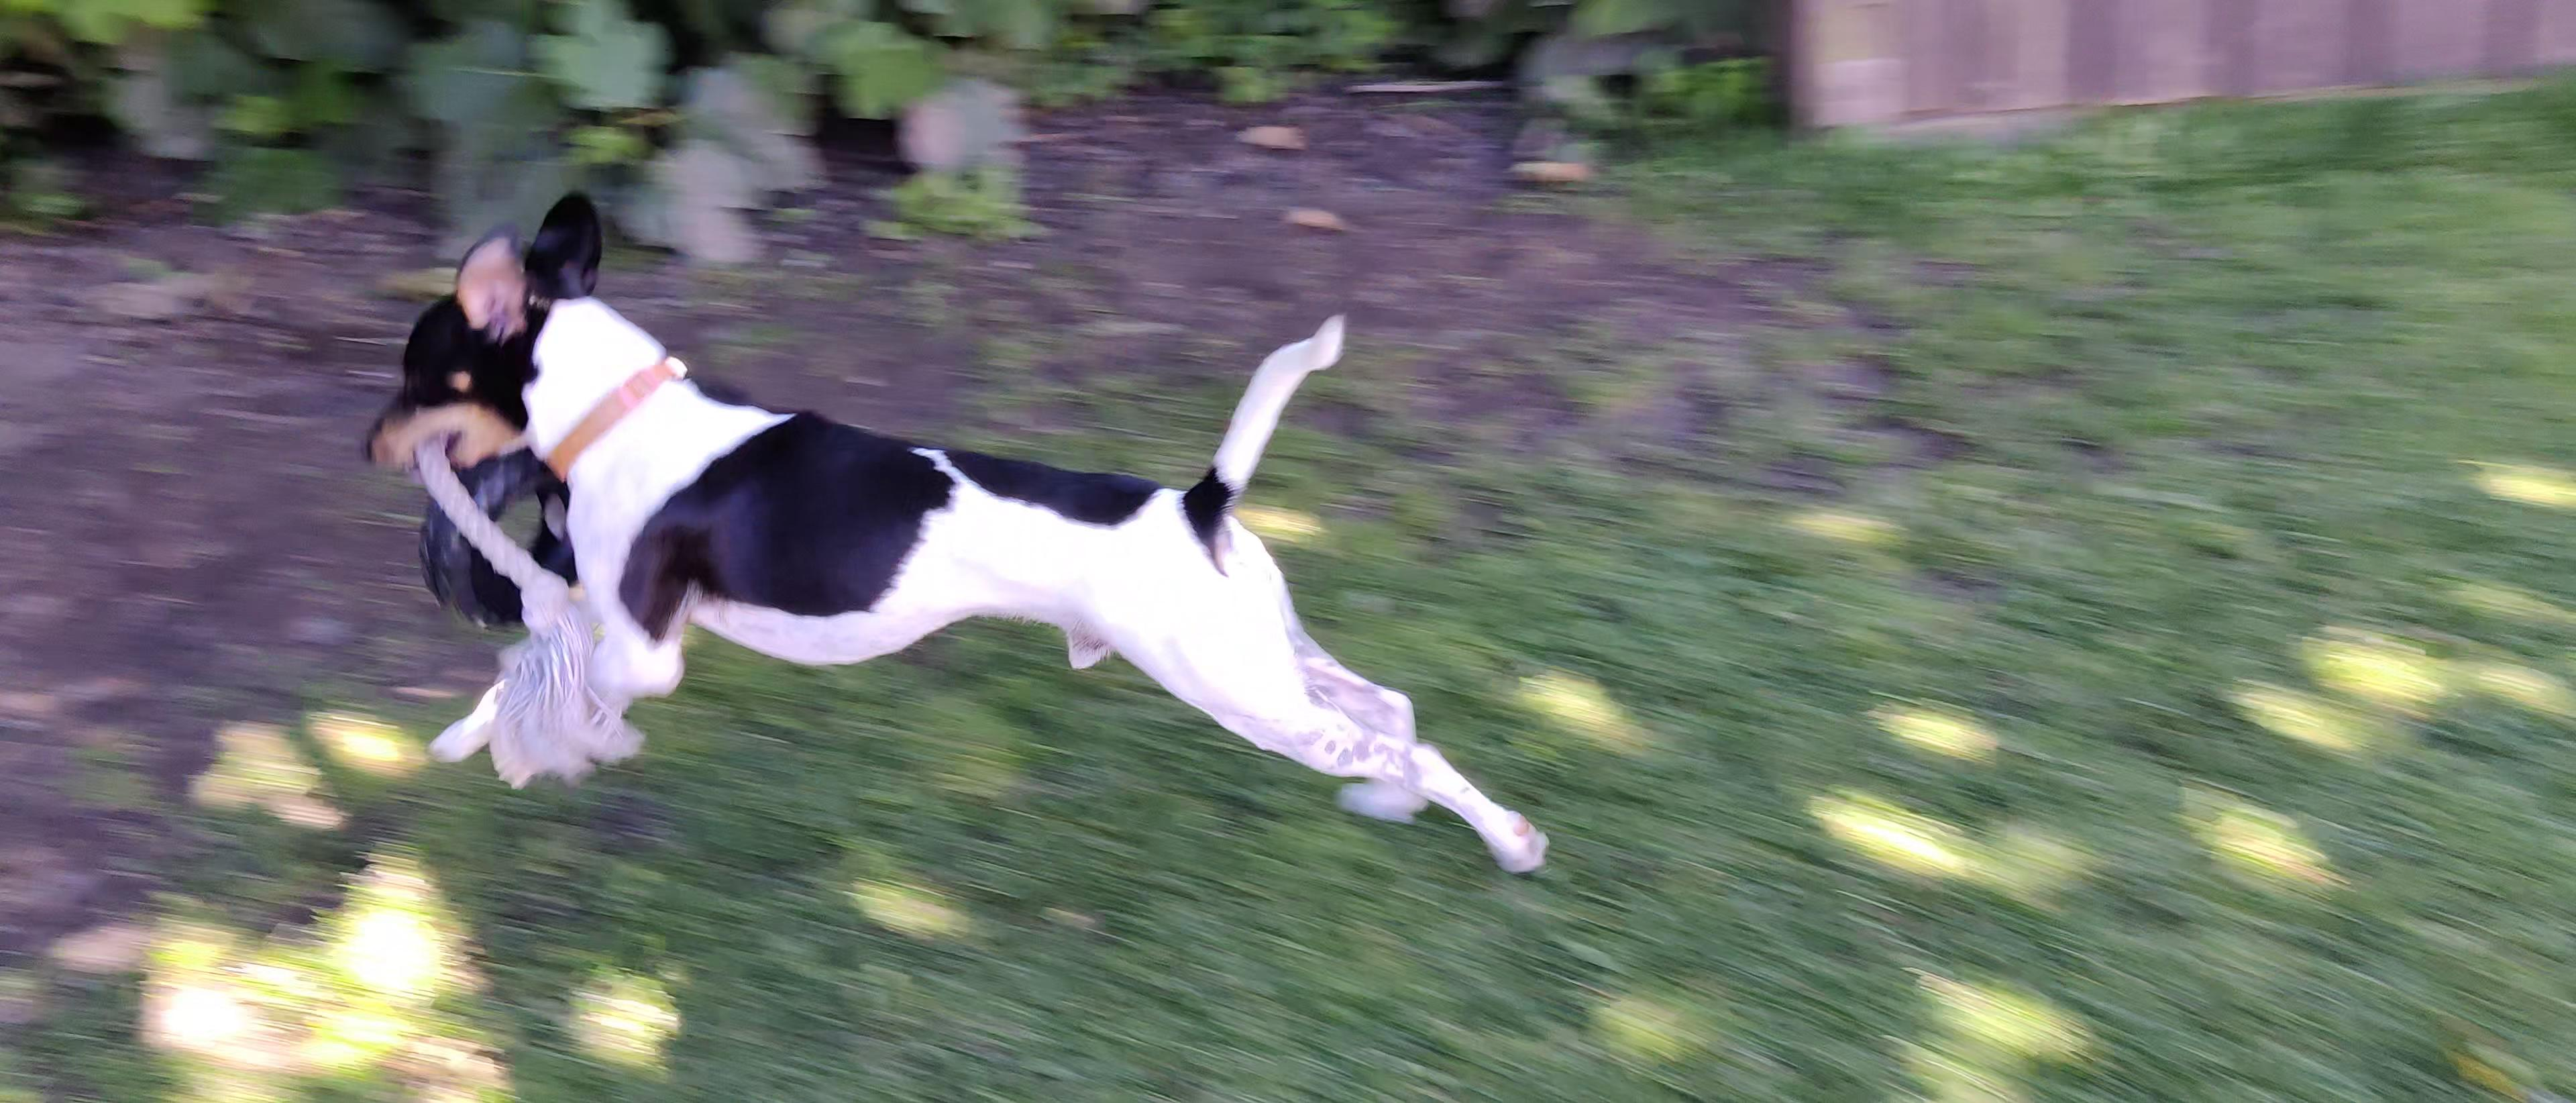Dog: (353, 182, 1554, 876)
